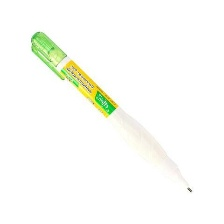correction_fluid: (28, 29, 194, 195)
